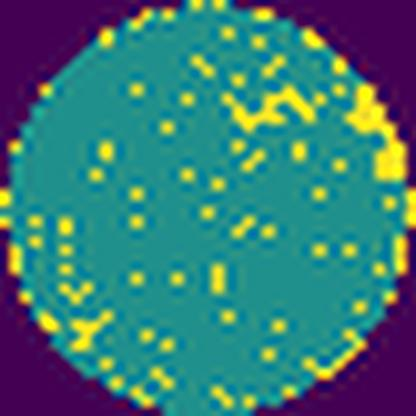Edge-Loc: (342, 81, 413, 188)
